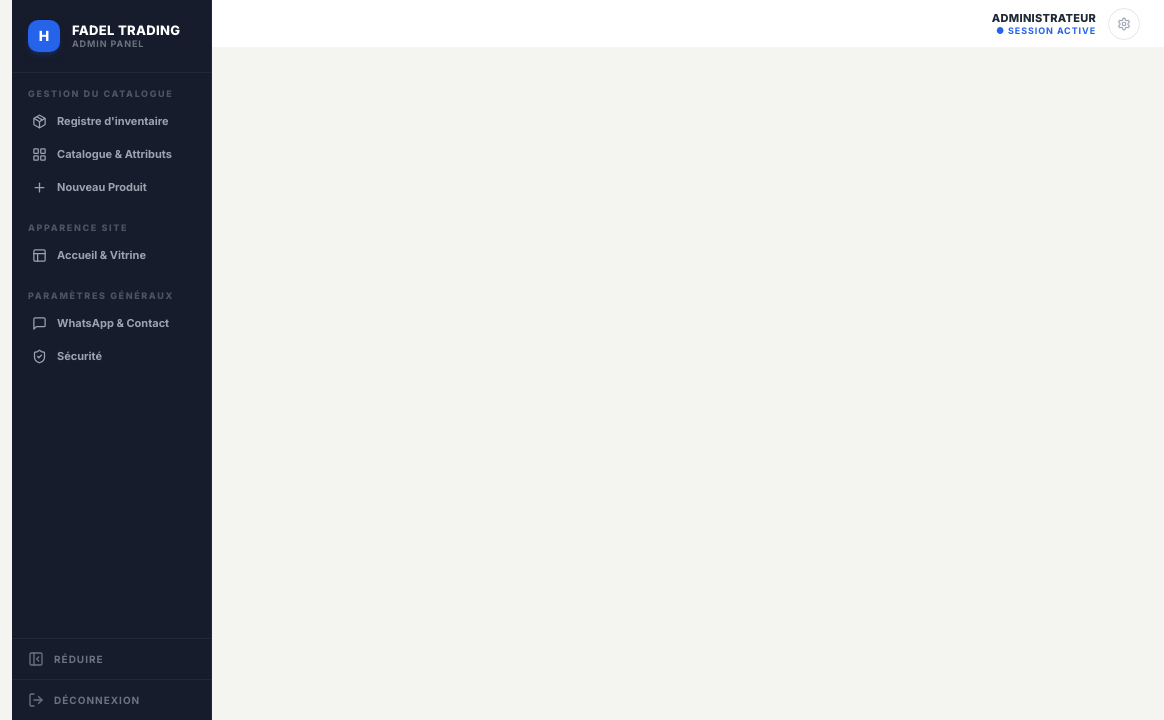
Test: AdminLayout › TC-LAY-03: collapse toggle works
Click the button "Réduire": (112, 659) [12,639,211,679]
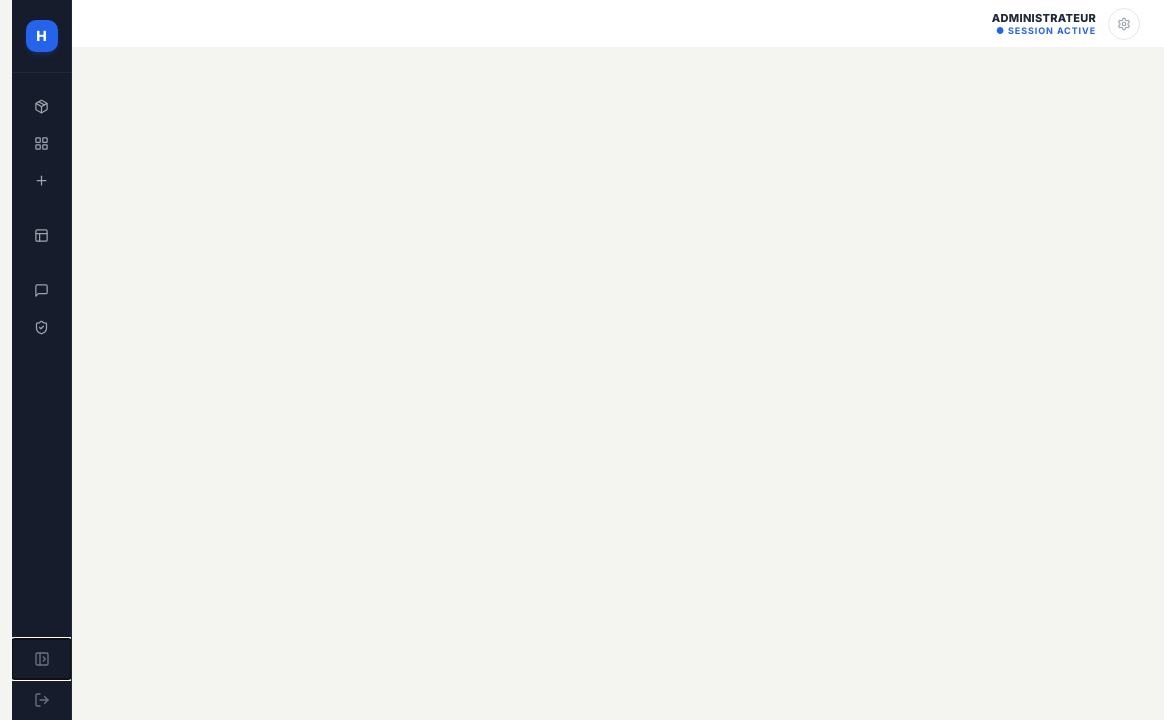
Expected: the text "Gestion du Catalogue" is gone
Expected: the button titled "Agrandir" is shown, [12,639,71,679]
